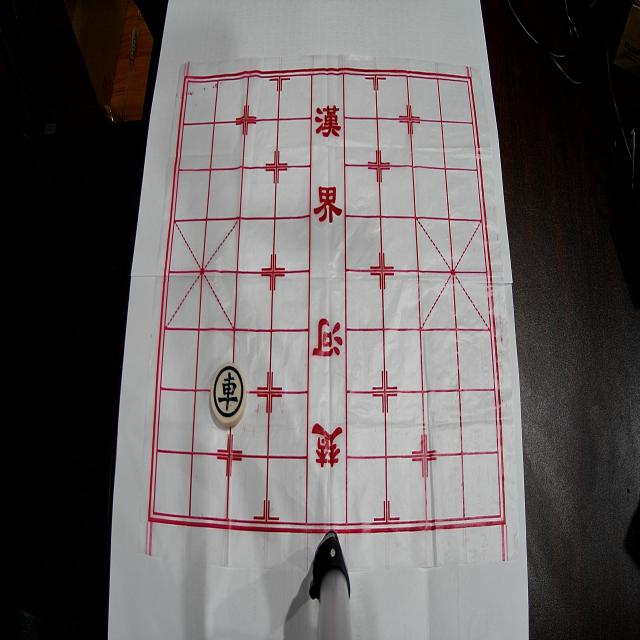black-chariot: (211, 362, 247, 427)
